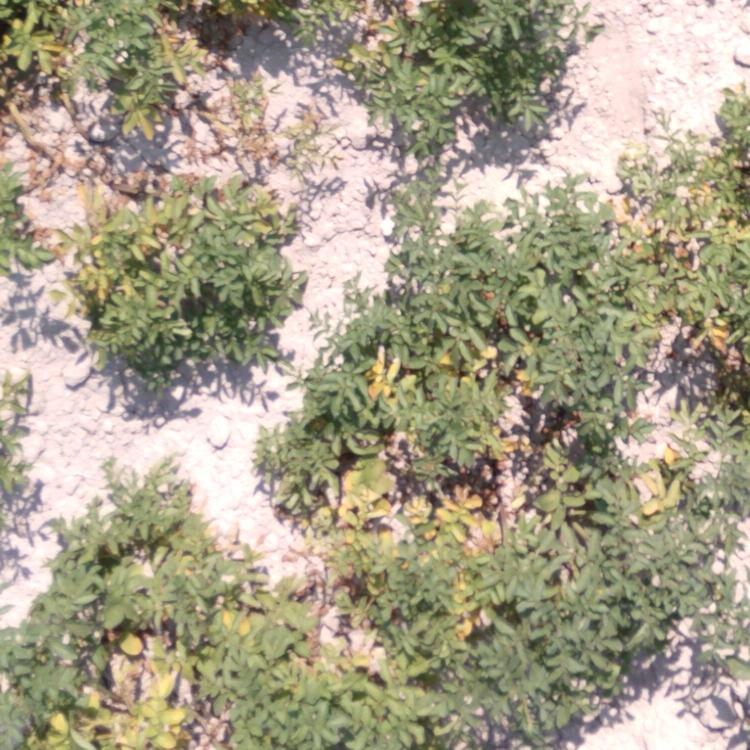healthy: (520, 525, 700, 719), (420, 197, 596, 305), (412, 5, 540, 97)
stressed: (20, 504, 231, 745), (263, 560, 492, 750), (82, 181, 289, 381), (341, 334, 526, 545), (601, 142, 750, 384), (1, 2, 245, 110)
